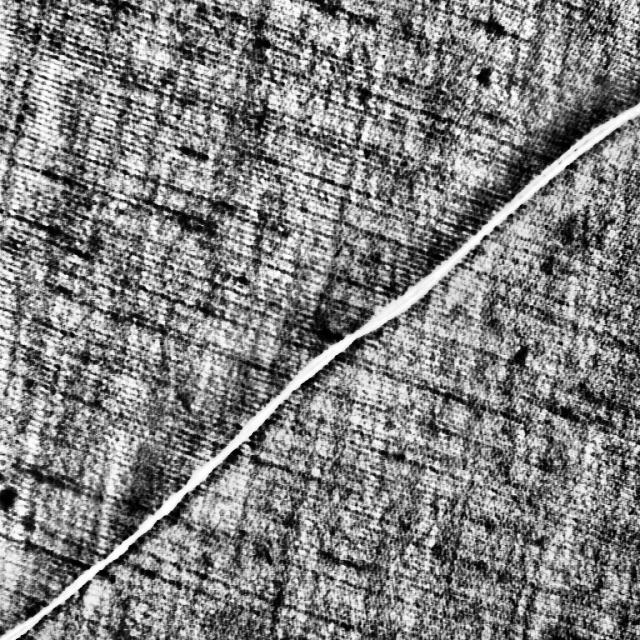Stitch: (0, 92, 638, 638)
